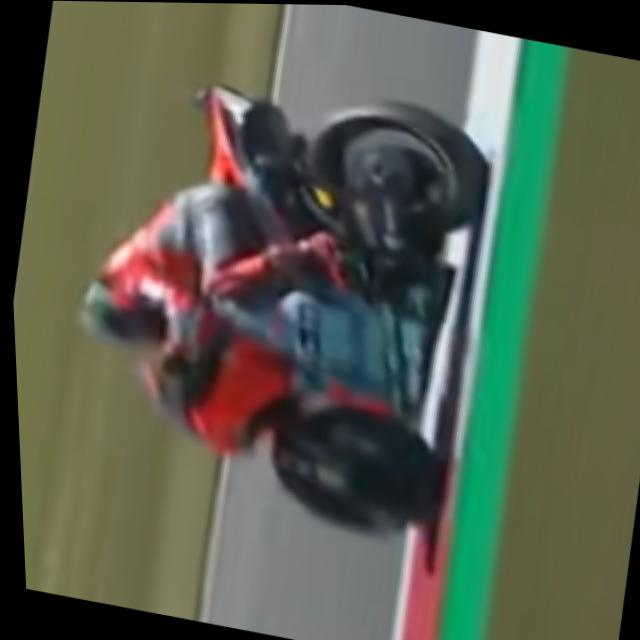WITH_HELMET: (74, 267, 179, 358)
normal: (30, 38, 500, 559)
